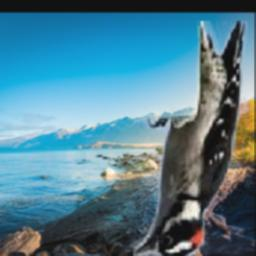Woodpecker: (133, 22, 247, 256)
